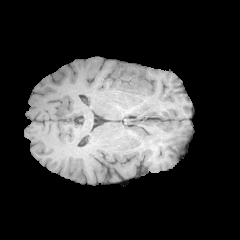glioma: (108, 62, 148, 98)
